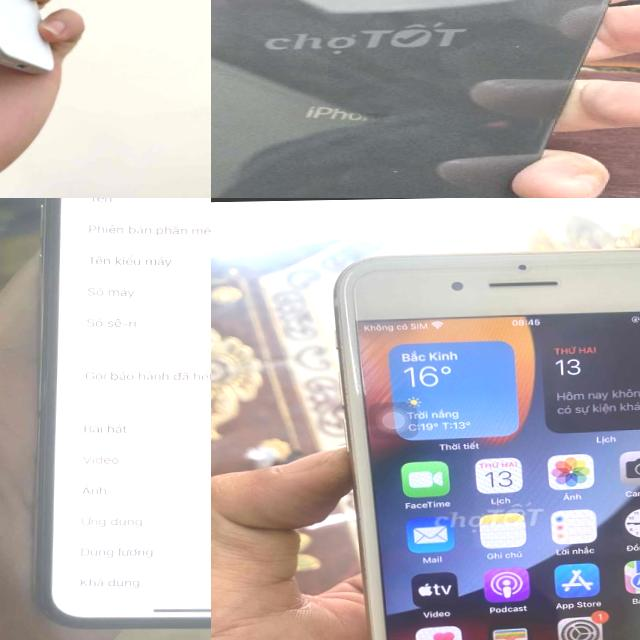gen_7_8: (327, 236, 640, 640)
gen_x_xs: (18, 198, 211, 637), (211, 0, 608, 198)
